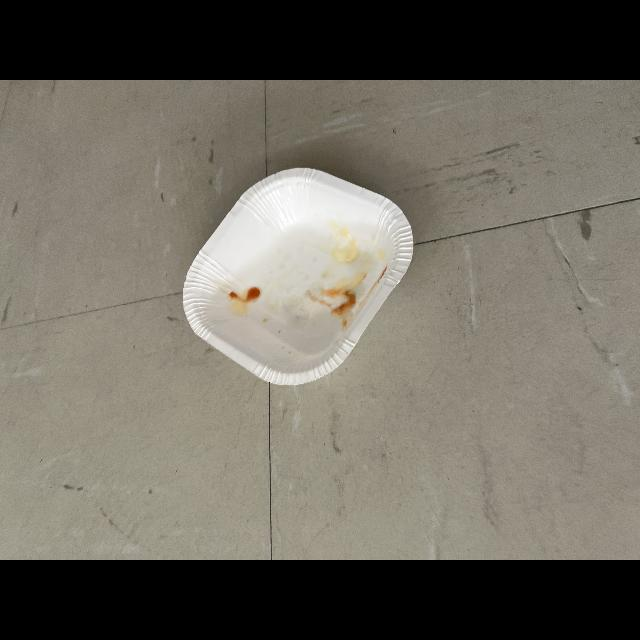cardboard_bowl: (168, 160, 420, 400)
